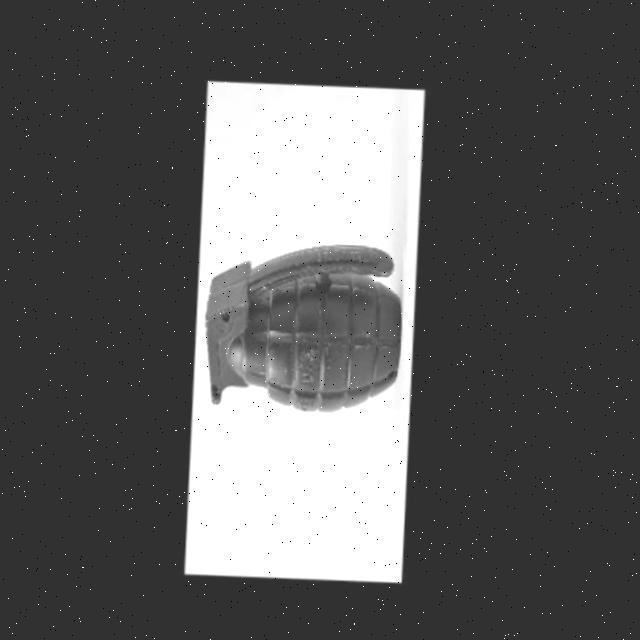grenade: (193, 231, 416, 437)
